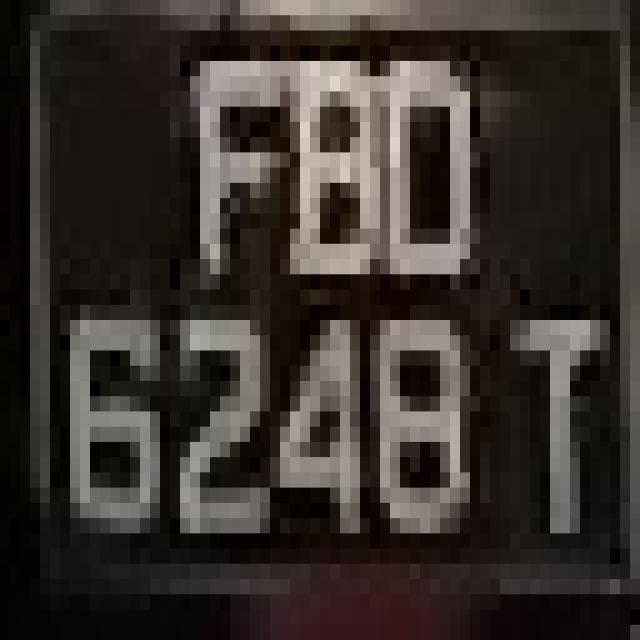2: (150, 290, 280, 594)
4: (240, 289, 370, 564)
6: (50, 289, 170, 564)
8: (360, 274, 490, 534)
B: (270, 46, 400, 290)
D: (360, 46, 510, 290)
F: (170, 16, 310, 274)
T: (490, 274, 610, 534)
